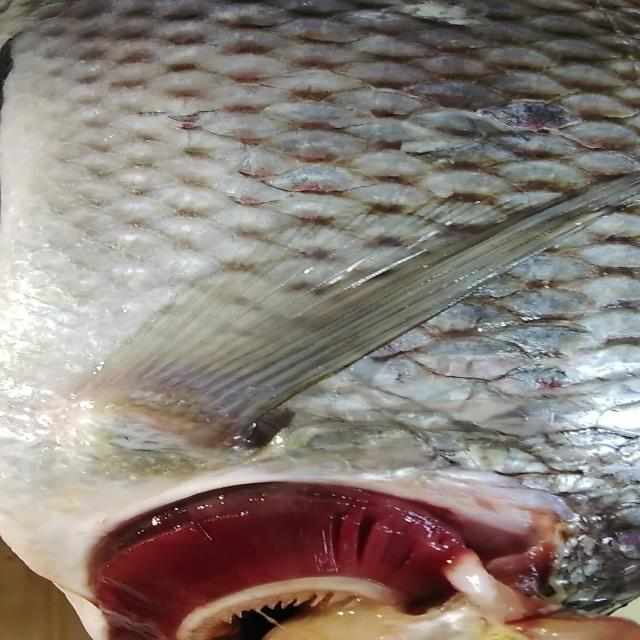Fresh: (45, 0, 639, 472), (47, 476, 553, 634)
